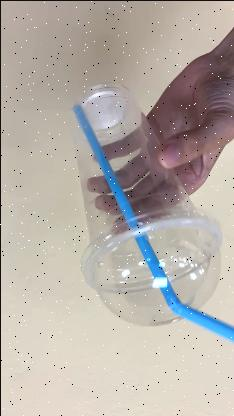Others: (67, 81, 221, 326)
